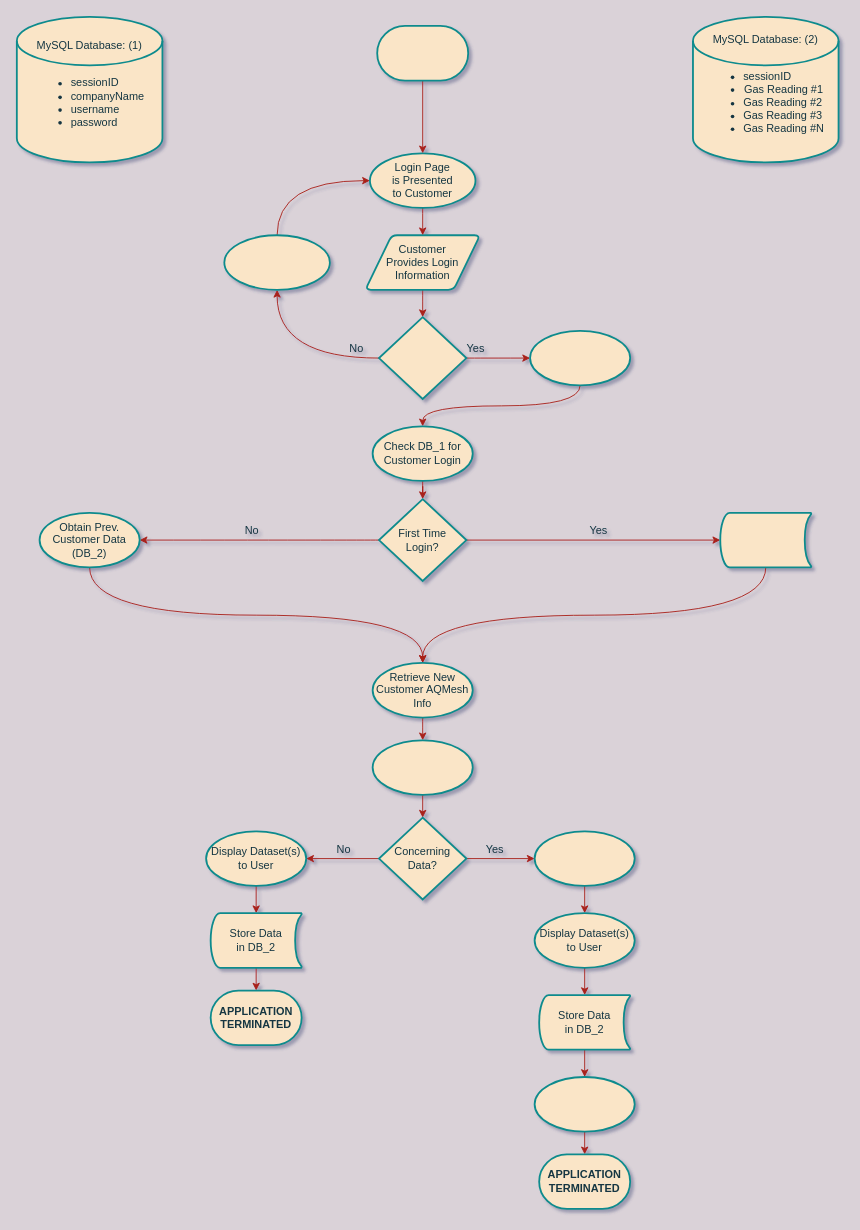
Image size: 860x1230. Some labels were removed from this diagram. The shapes that lost their labels are listed below. From the top down, each one's centre as x and y in pixels, then its label:
At (x=422, y=53): "APPLICATION STARTUP".
At (x=276, y=262): "Send Error Msg. to User".
At (x=422, y=357): "Login Correct?".
At (x=580, y=357): "Acquire/Save Login Info".
At (x=765, y=539): "Store Login Data in DB_1".
At (x=422, y=767): "Assess Customer AQMesh Dataset(s)".
At (x=584, y=858): "Display Warning Message to User".
At (x=584, y=1104): "Request Data Analysis by AE via Email".
